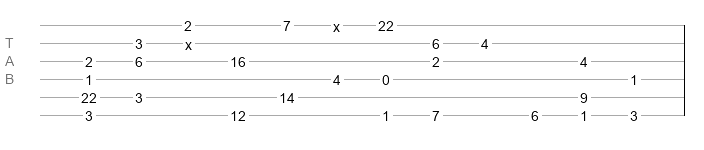0: (382, 72, 390, 82)
1: (85, 72, 93, 82), (382, 108, 390, 118), (580, 108, 588, 118), (630, 72, 638, 82)
12: (230, 108, 246, 118)
14: (279, 90, 295, 100)
16: (230, 54, 246, 64)
2: (85, 54, 93, 64), (184, 18, 192, 28), (432, 54, 440, 64)
22: (81, 90, 97, 100), (378, 18, 394, 28)
3: (85, 108, 93, 118), (135, 90, 143, 100), (135, 36, 143, 46), (630, 108, 638, 118)
4: (333, 72, 341, 82), (481, 36, 489, 46), (580, 54, 588, 64)
6: (135, 54, 143, 64), (432, 36, 440, 46), (531, 108, 539, 118)
7: (283, 18, 291, 28), (432, 108, 440, 118)
9: (580, 90, 588, 100)
x: (185, 37, 192, 45), (333, 19, 340, 27)
